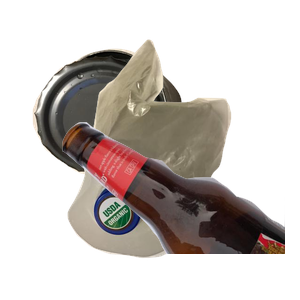glass: (60, 120, 300, 300)
metal: (30, 46, 205, 215)
plastic: (65, 123, 257, 300)
trash: (89, 37, 300, 213)
